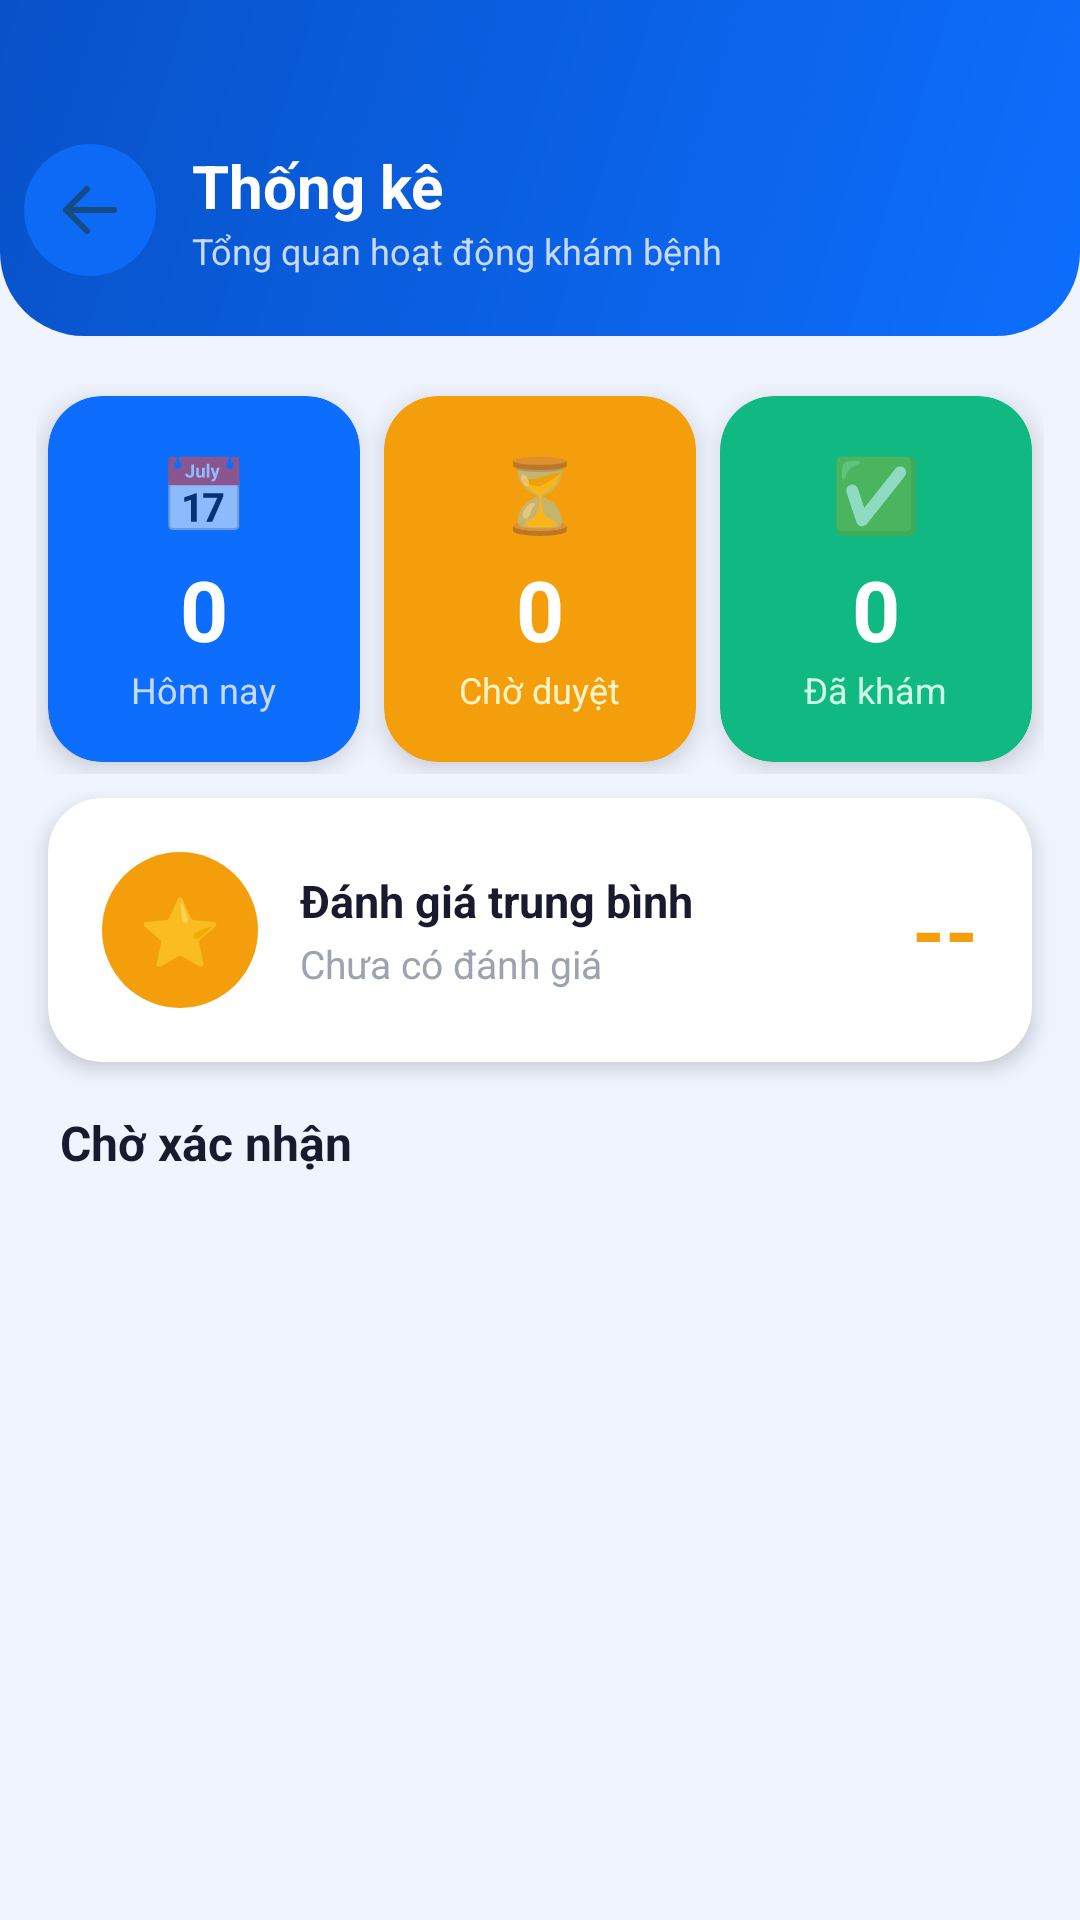

Icon bounding boxes for this 1080w x 1920h phone screenshot, format (x1=x1, y1=y1, x2=x2, y2=y2):
Quay lại: (x1=24, y1=144, x2=156, y2=276)
